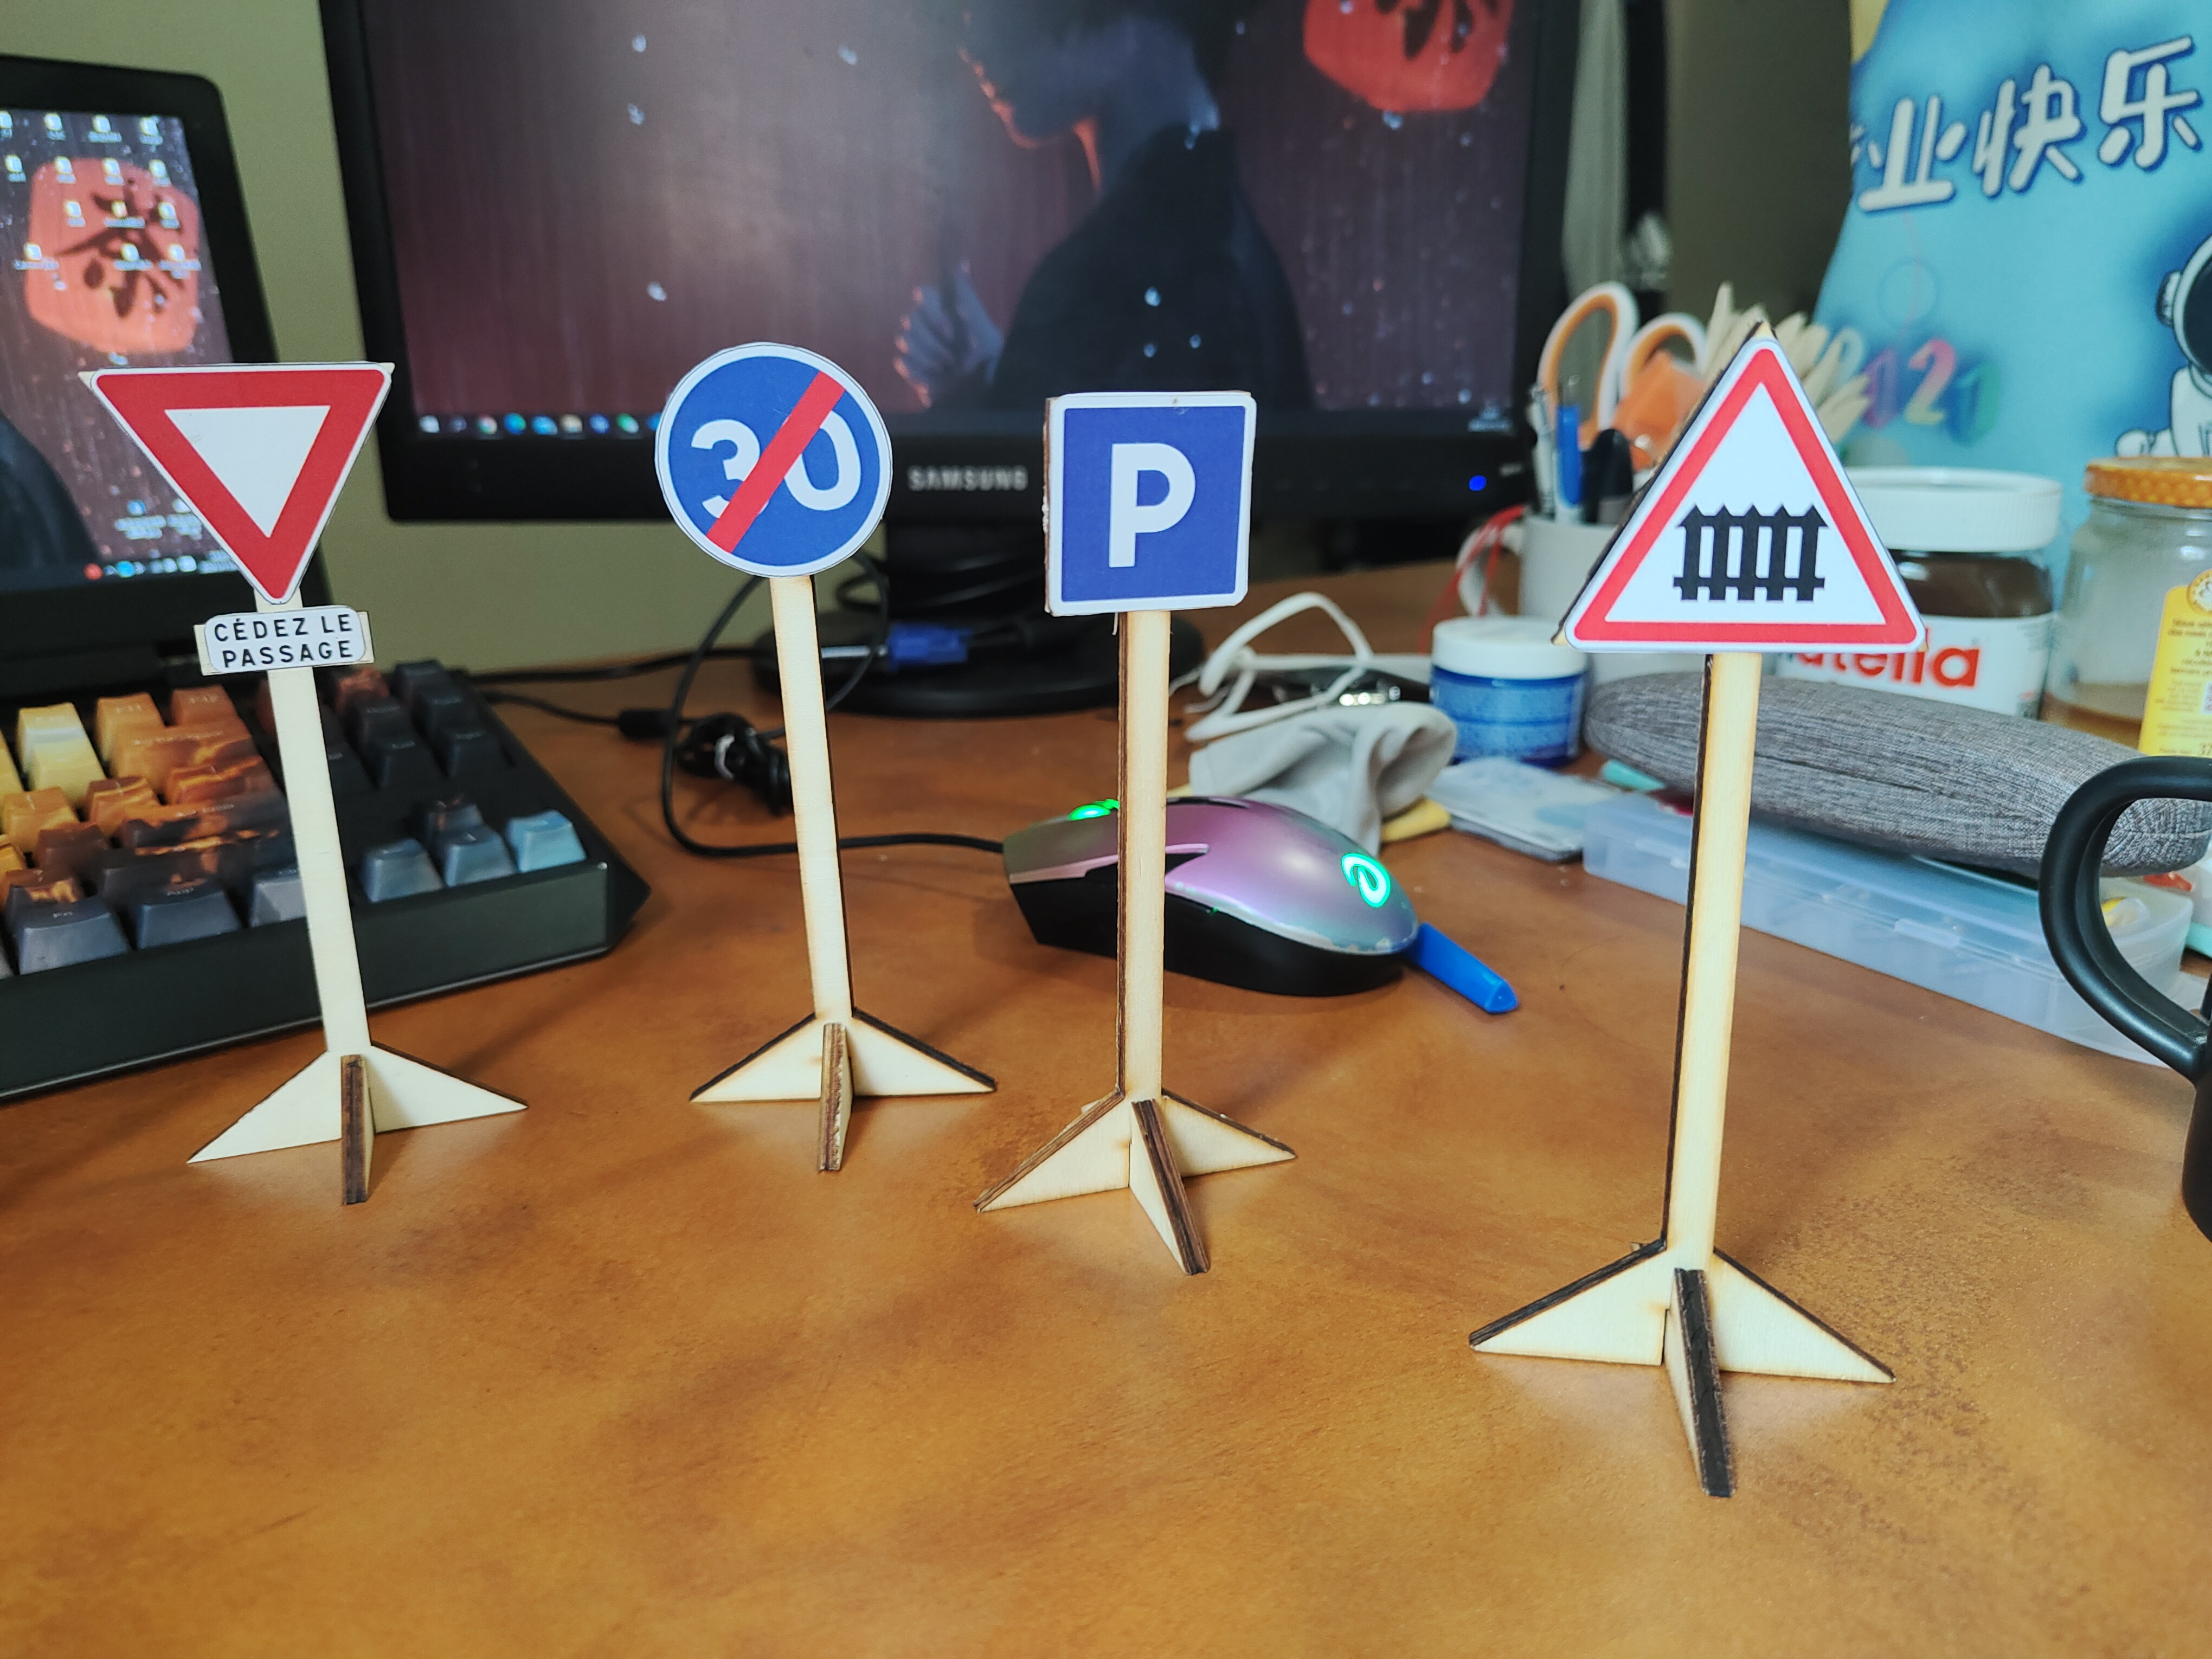P: (1050, 382, 1258, 613)
ban: (655, 340, 895, 577)
second: (80, 355, 399, 671)
train: (1562, 319, 1921, 662)
